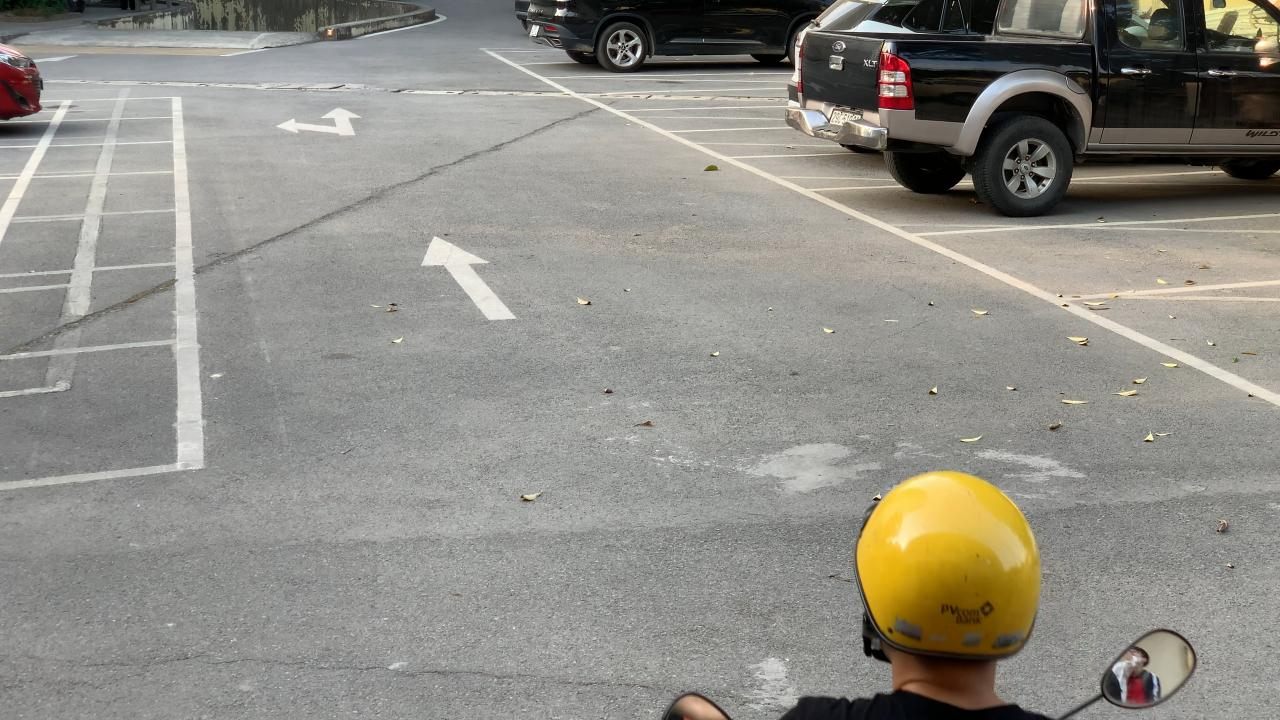helmet: (850, 465, 1046, 663)
